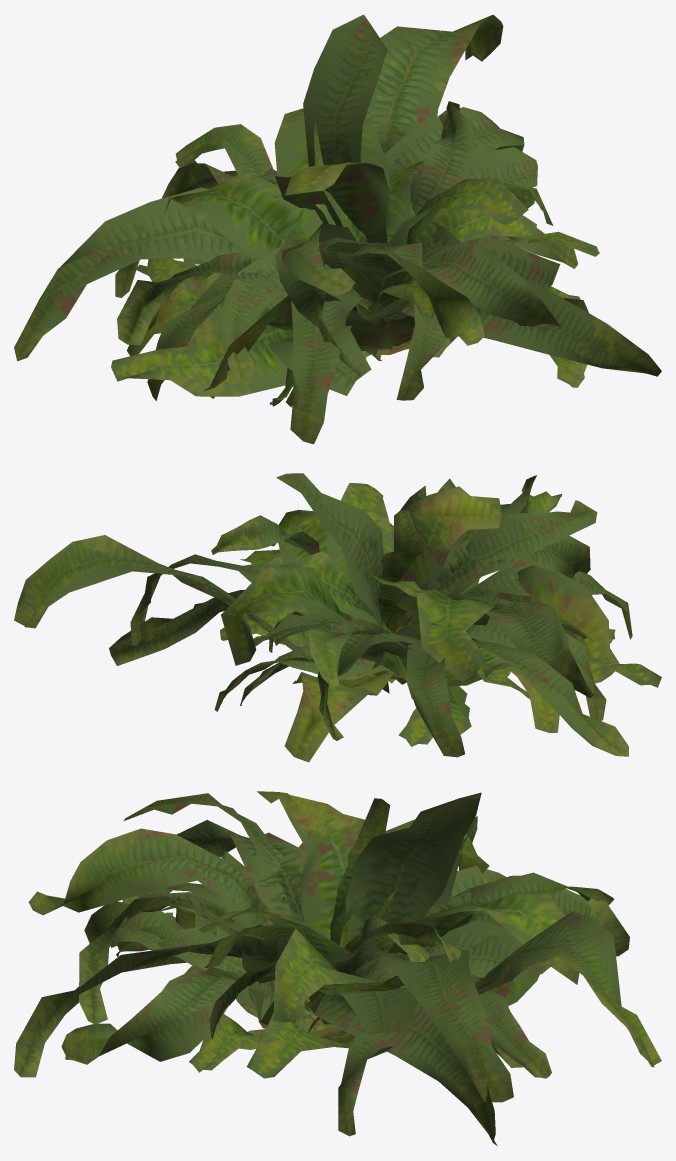
Rendered from plant_fern_kit.glb.
The picture shows the model from 3 angles, top to bottom: view 1: azimuth 30°, elevation 25°; view 2: azimuth 150°, elevation 25°; view 3: azimuth 270°, elevation 25°; orthographic projection. The views are drawn at different scales.
Parts seen in each view (by area): view 1: fern_01, fern_02, fern_03, fern_00; view 2: fern_01, fern_02, fern_00, fern_03; view 3: fern_01, fern_02, fern_00, fern_03.
Part boxes in pixels (x1,y1,x2,y2): fern_01: [14, 14, 661, 444]; fern_02: [111, 117, 588, 407]; fern_03: [136, 246, 580, 406]; fern_00: [187, 101, 560, 357]; fern_01: [14, 473, 632, 762]; fern_02: [109, 478, 661, 757]; fern_00: [211, 515, 530, 711]; fern_03: [268, 556, 615, 746]; fern_01: [14, 791, 661, 1136]; fern_02: [61, 793, 614, 1146]; fern_00: [116, 891, 551, 1078]; fern_03: [126, 902, 404, 1072].
Size of the model in its own units: 0.9897 by 0.4261 by 0.895.
1 material, 1 textured.
